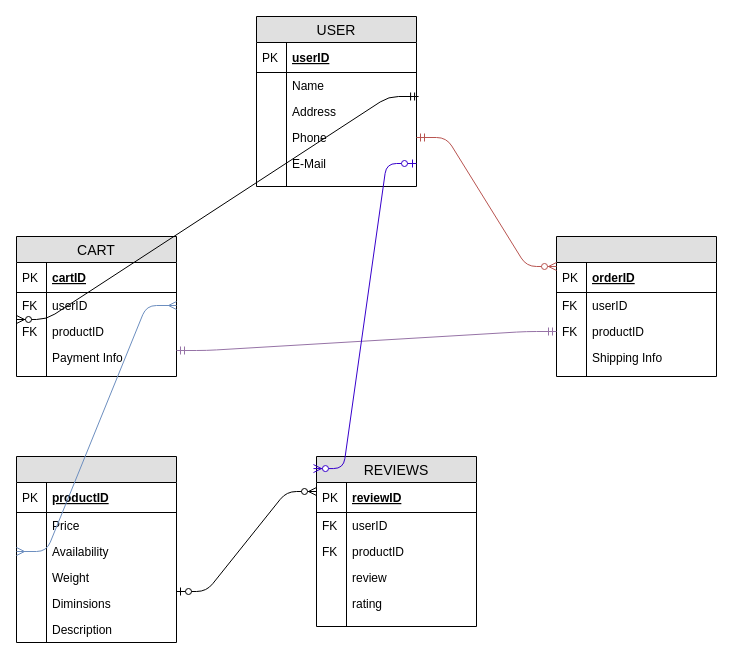
This 733x659 diagram has some shape labels left out. Here are the shapes that lost their labels. From the top down, the box of each, then its label:
(556, 236, 716, 376): ORDERS
(16, 456, 176, 642): PRODUCTS
